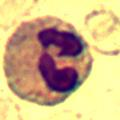eosi: (2, 15, 94, 106), (2, 15, 93, 105)
